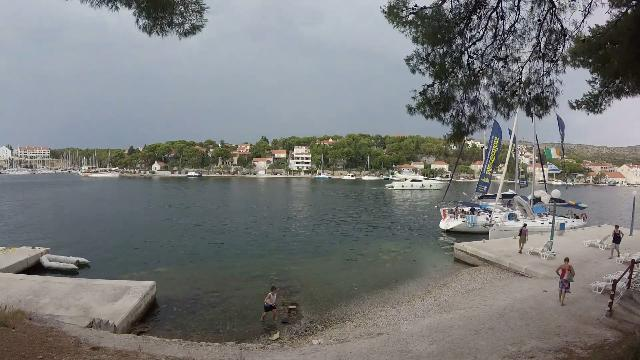ferry: (382, 164, 452, 192)
